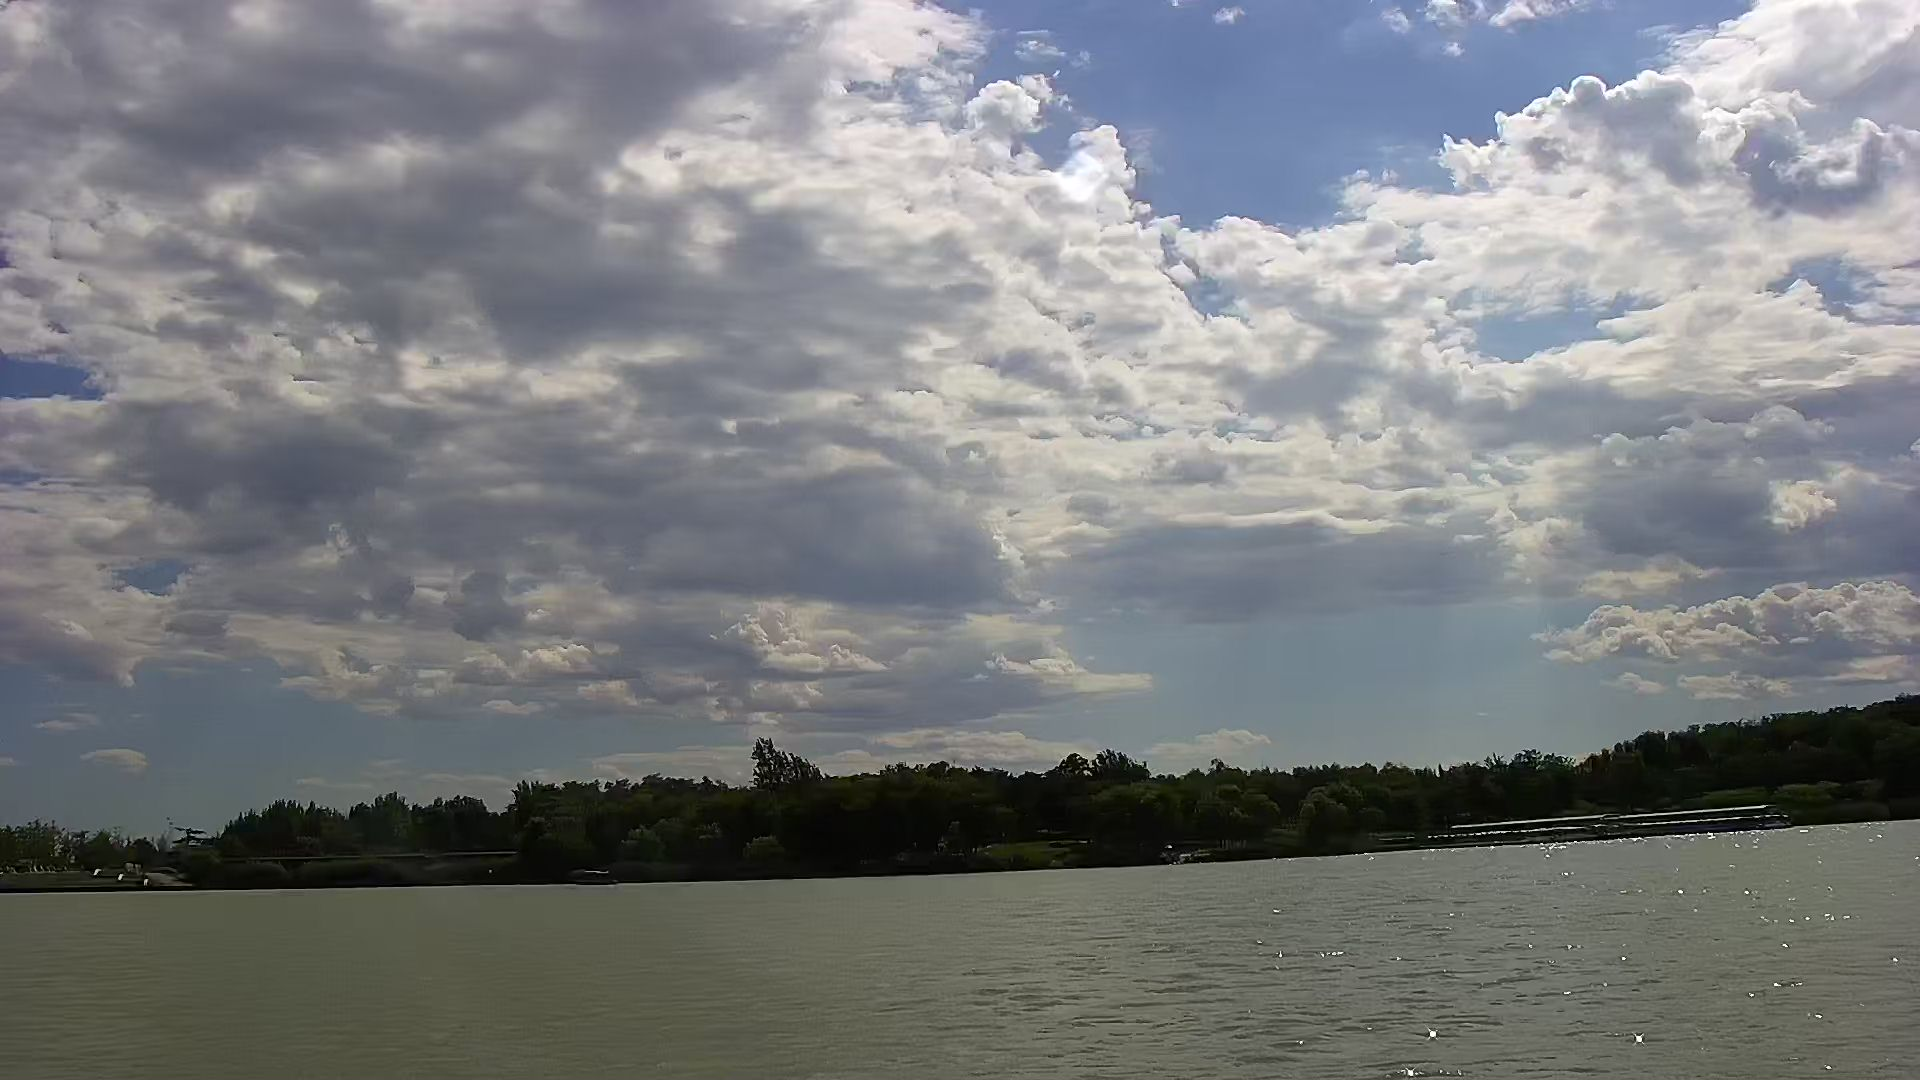harbor: (1415, 799, 1800, 851)
